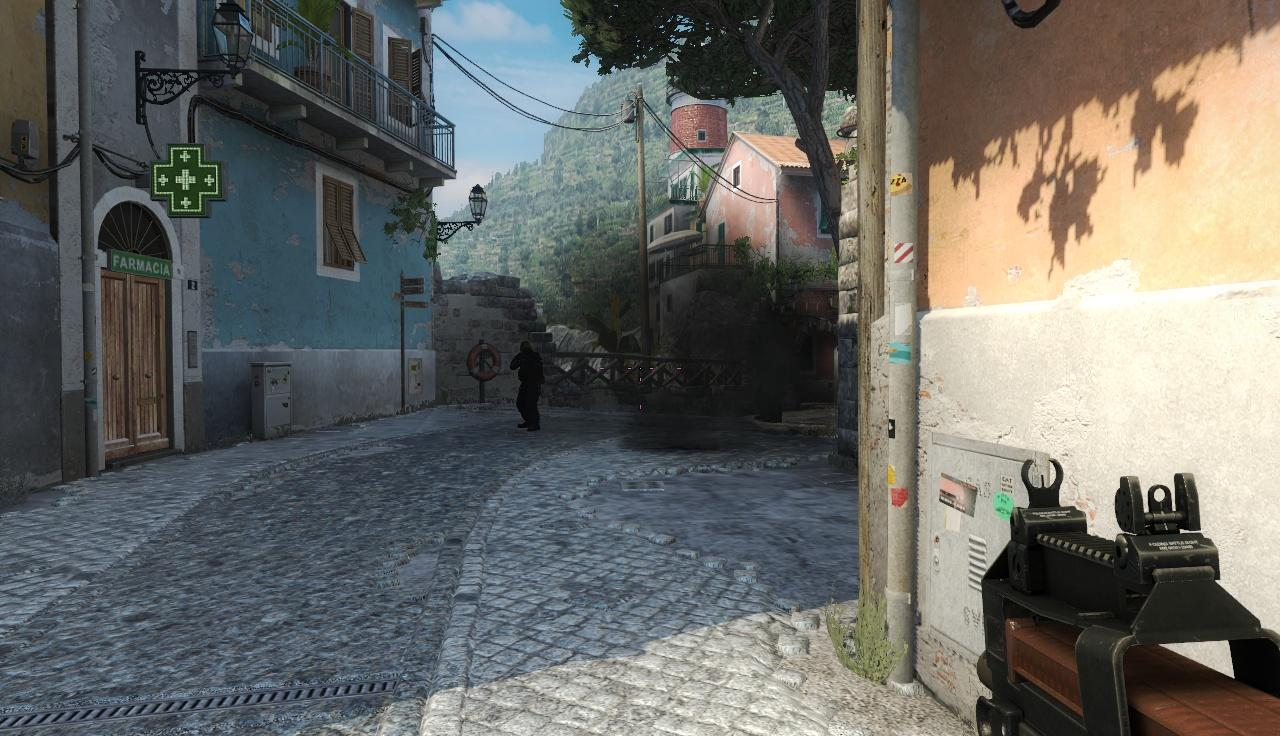ct: (517, 342, 548, 435)
cthead: (517, 343, 533, 359)
rifle: (983, 465, 1280, 736)
